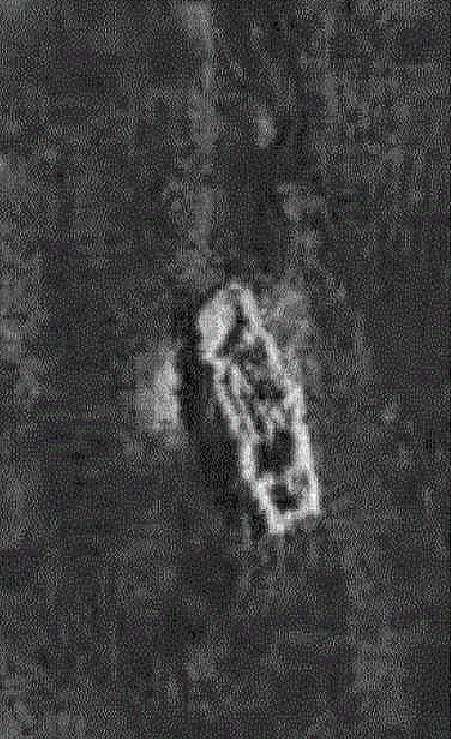ship: (191, 274, 321, 538)
